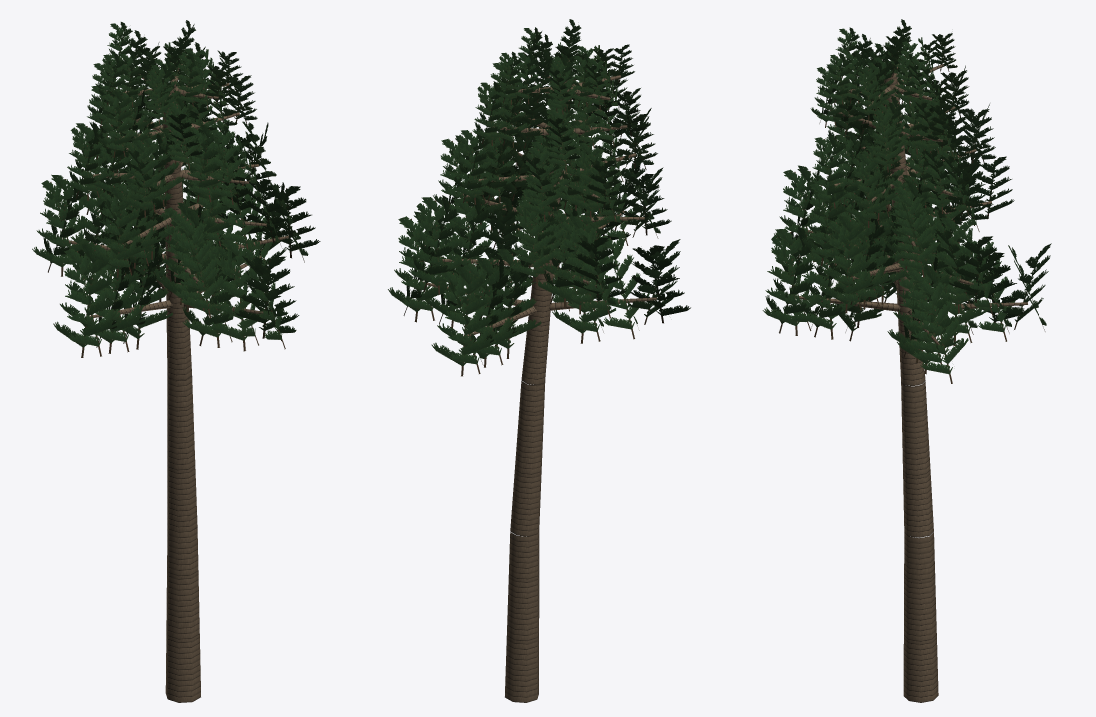
The model's file is SM_Art_Veg_Pine_2.gltf.
3 renders of one model, left to right at view 1: azimuth 30°, elevation 25°; view 2: azimuth 150°, elevation 25°; view 3: azimuth 270°, elevation 25°, orthographic. The views are drawn at different scales.
Parts seen in each view (by area): view 1: SM_Art_Veg_Pine_2; view 2: SM_Art_Veg_Pine_2; view 3: SM_Art_Veg_Pine_2.
Boxes of the visible parts, x1=… form: SM_Art_Veg_Pine_2: x1=32, y1=20, x2=320, y2=702; SM_Art_Veg_Pine_2: x1=388, y1=19, x2=690, y2=702; SM_Art_Veg_Pine_2: x1=762, y1=19, x2=1051, y2=702.
Size of the model in its own units: 6.09 by 12.73 by 6.15.
2 materials, 2 textured.
